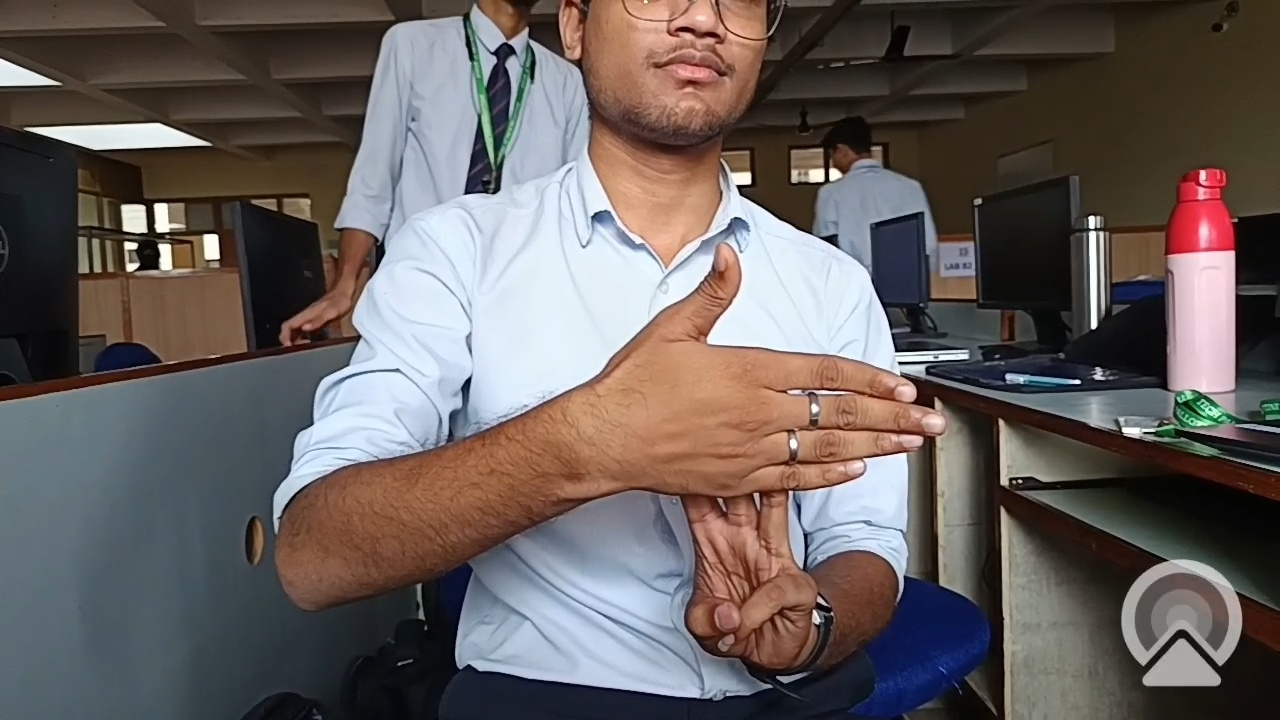M: (552, 199, 999, 695)
